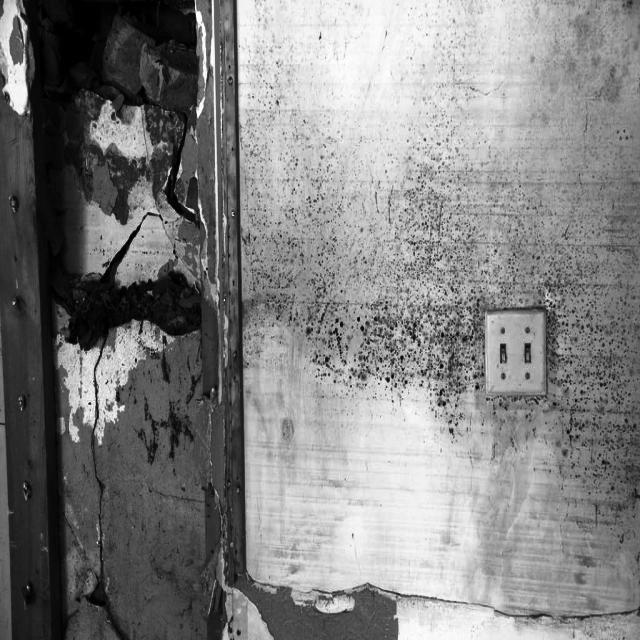stain marks: (235, 76, 640, 548)
